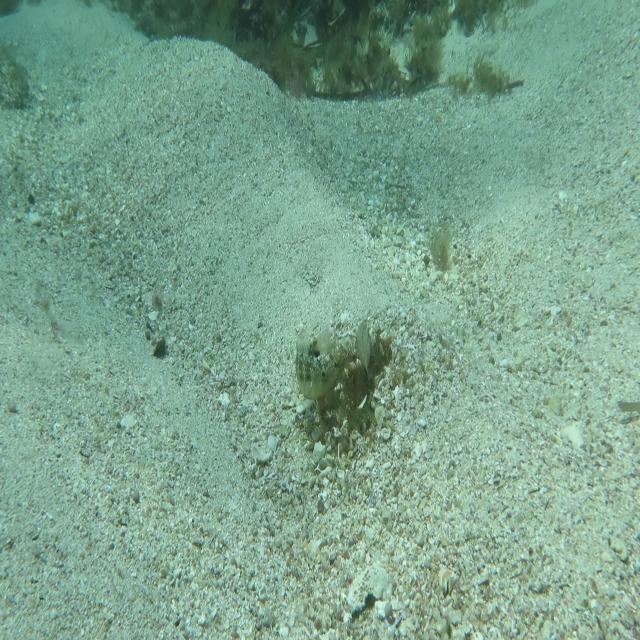BEND: (292, 322, 345, 405)
female: (351, 318, 377, 389)
nest: (287, 316, 398, 451)
vegetation: (131, 0, 527, 32), (261, 37, 440, 94), (426, 223, 455, 277)
